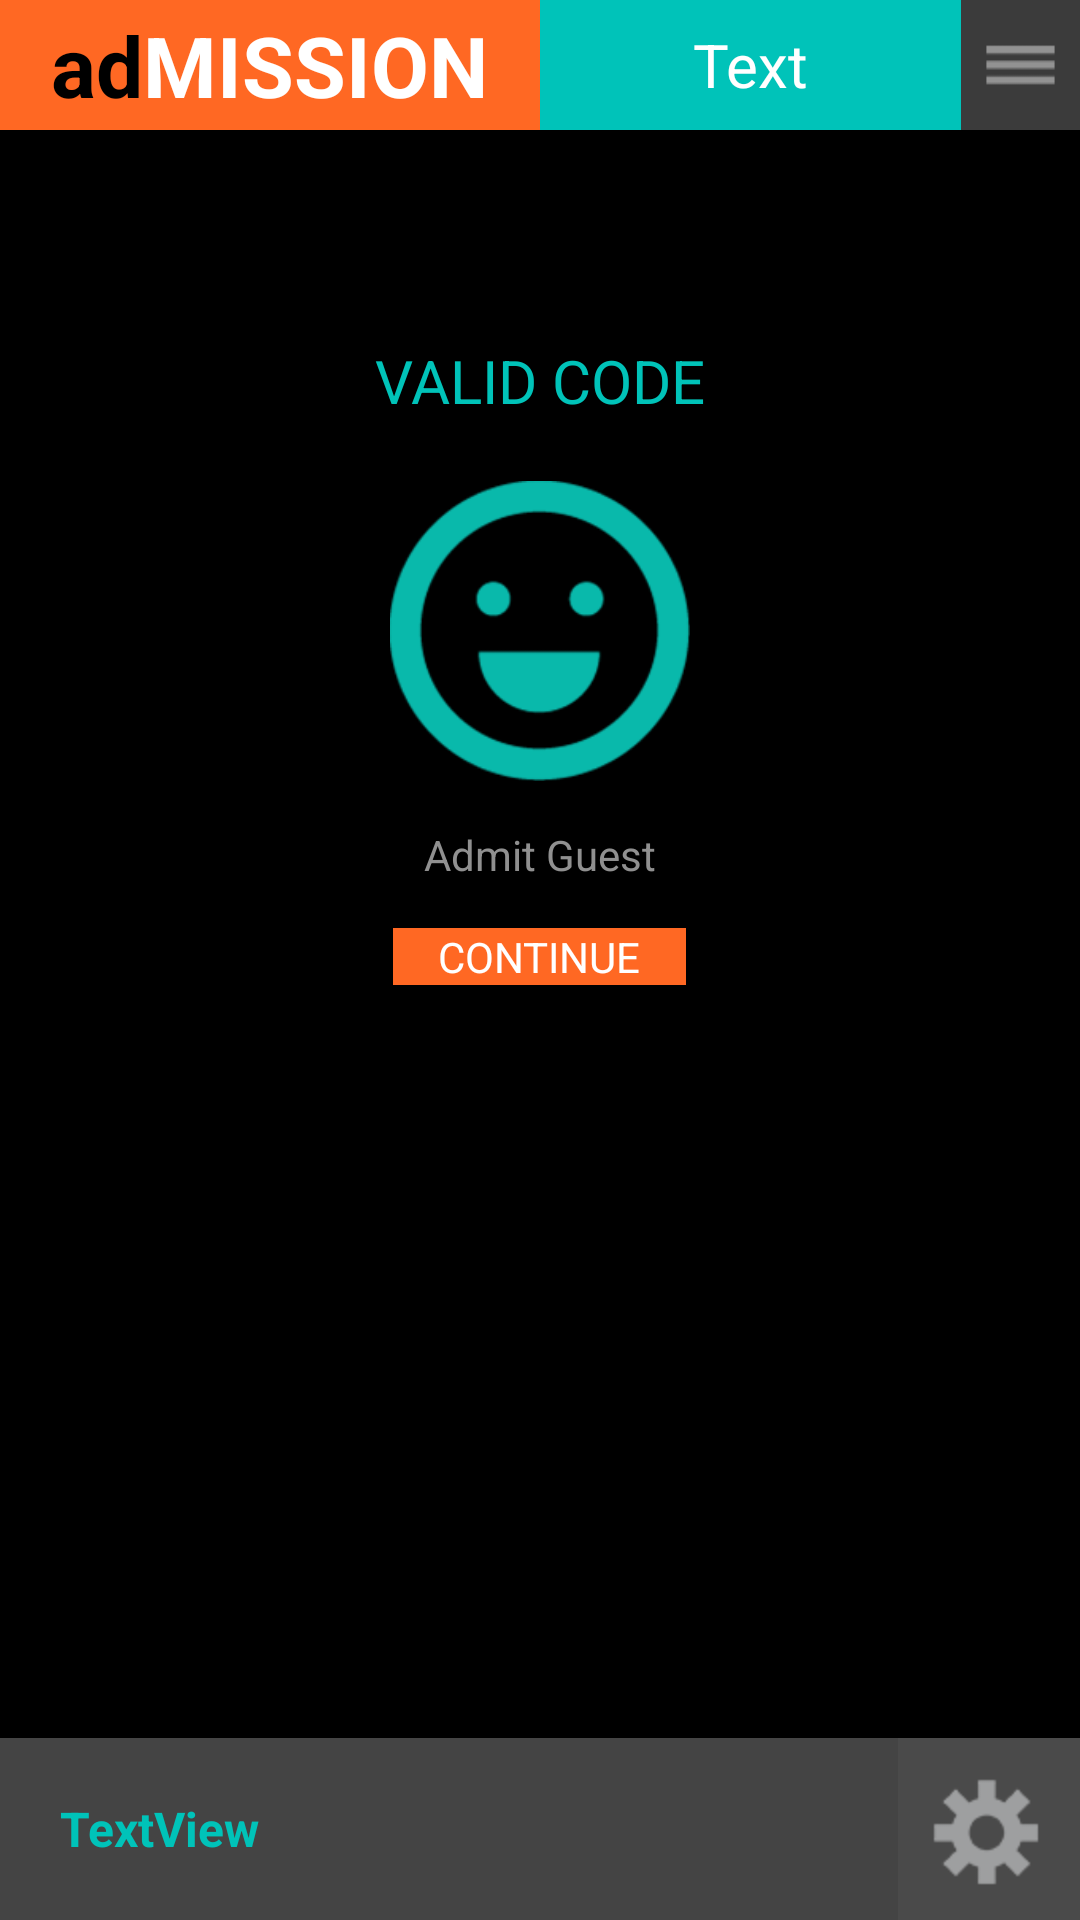

Where to tap for icons on this 1080x1920 app screen, as [x,y]:
menu: [1020,65]
